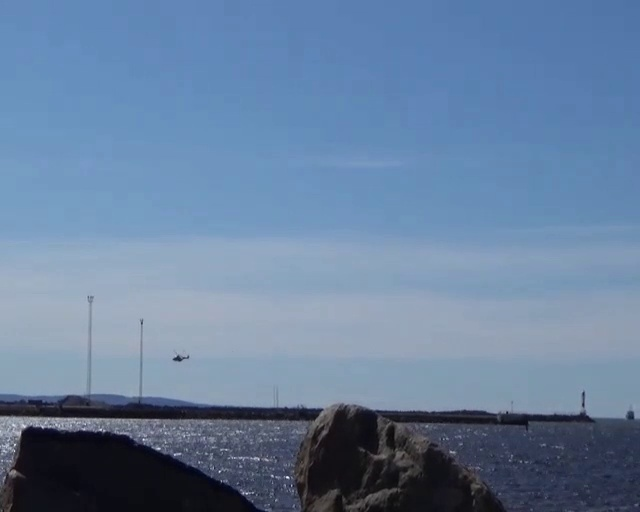HELICOPTER: (173, 352, 189, 362)
